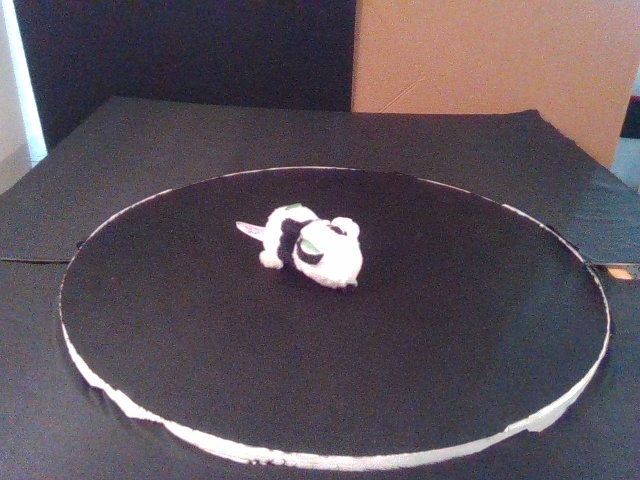teddy_bear: (234, 202, 365, 291)
